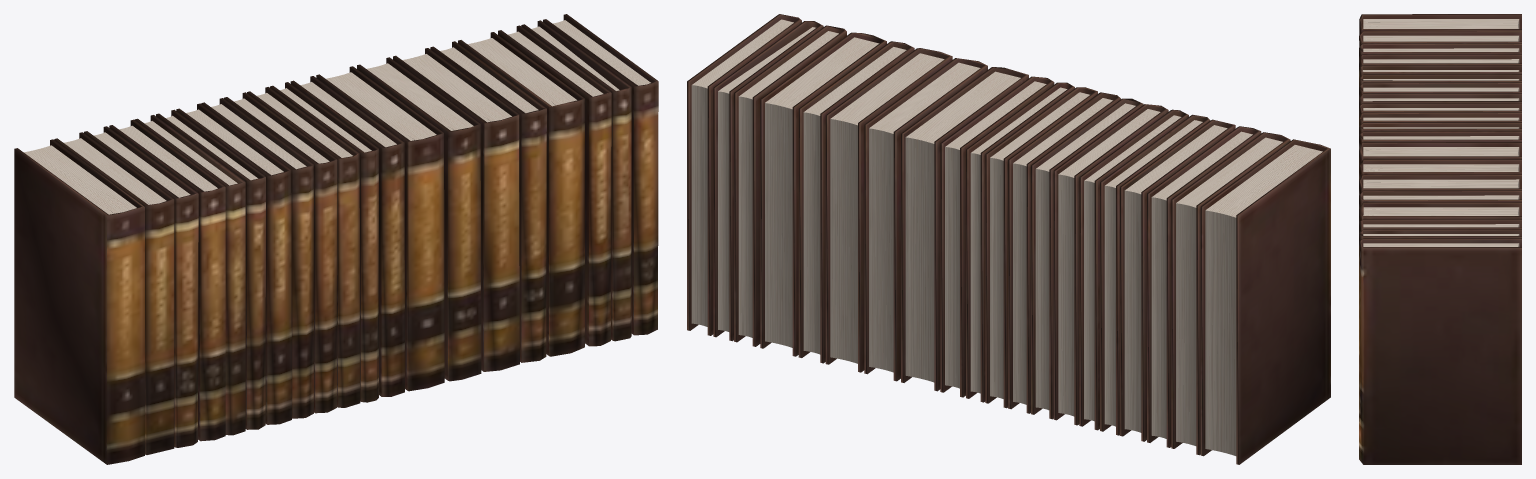
The model's file is book_encyclopedia_set_01.glb.
The picture shows the model from 3 angles, left to right: view 1: azimuth 30°, elevation 25°; view 2: azimuth 150°, elevation 25°; view 3: azimuth 270°, elevation 25°; orthographic projection. The views are drawn at different scales.
Visible parts, largest first — view 1: book_encyclopedia_set_01_book01; view 2: book_encyclopedia_set_01_book01; view 3: book_encyclopedia_set_01_book01.
Part boxes in pixels (left/top/right/bottom): book_encyclopedia_set_01_book01: left=14, top=14, right=658, bottom=464; book_encyclopedia_set_01_book01: left=687, top=14, right=1330, bottom=464; book_encyclopedia_set_01_book01: left=1359, top=14, right=1521, bottom=464.
Size of the model in its own units: 0.5513 by 0.2374 by 0.1619.
Materials: 2 (2 with a texture image).
